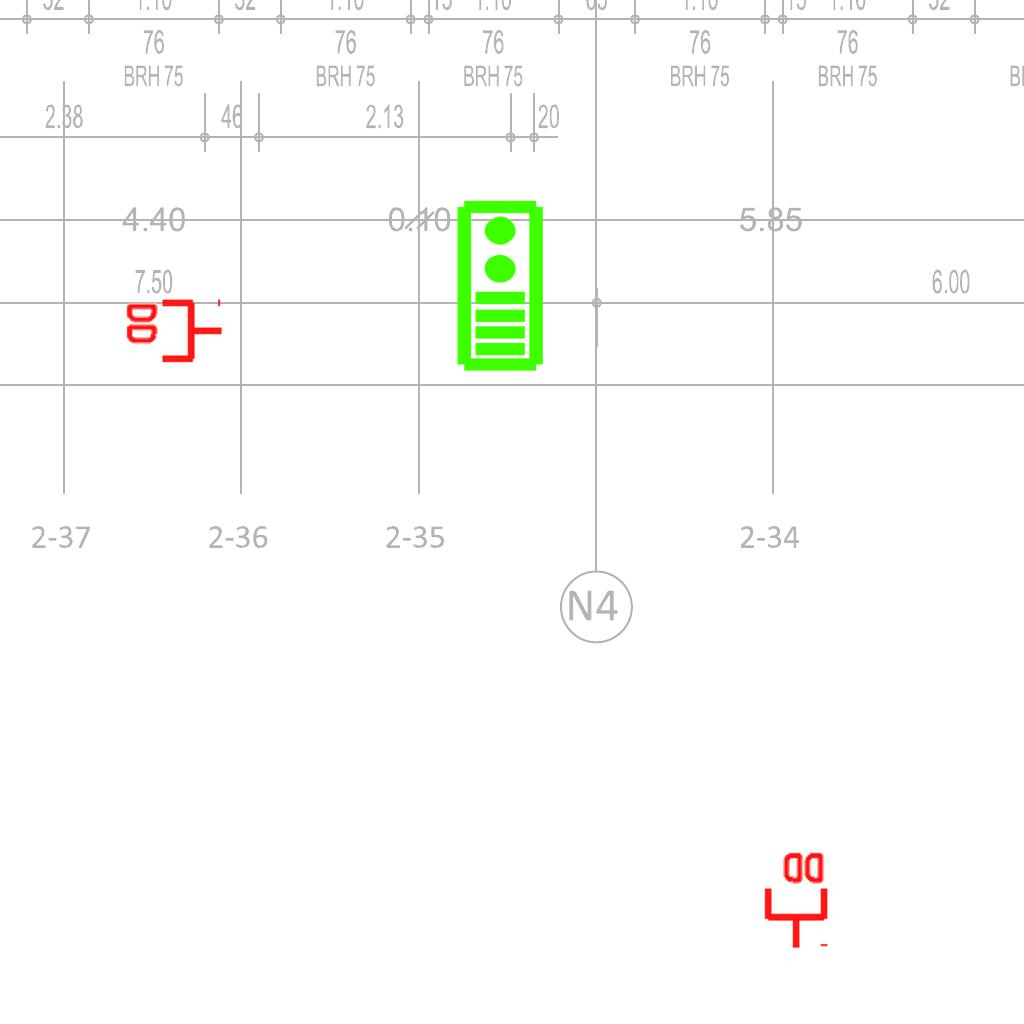Datenanschluss_zweifach: (760, 848, 829, 951), (122, 298, 225, 367)
Gegensprechanlage_mit_Video: (451, 197, 546, 373)
